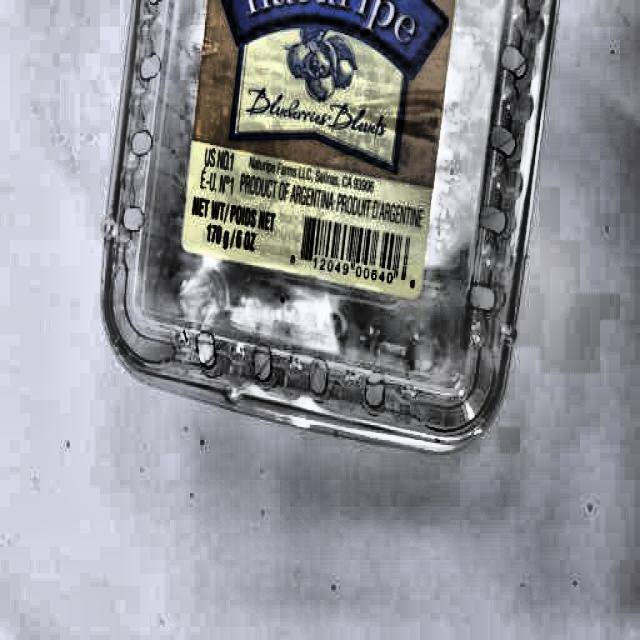plastic: (98, 0, 548, 447)
